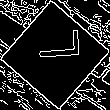L_W: (28, 38, 82, 72)
